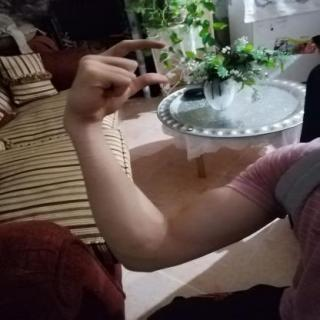DELL: (58, 32, 178, 127)
